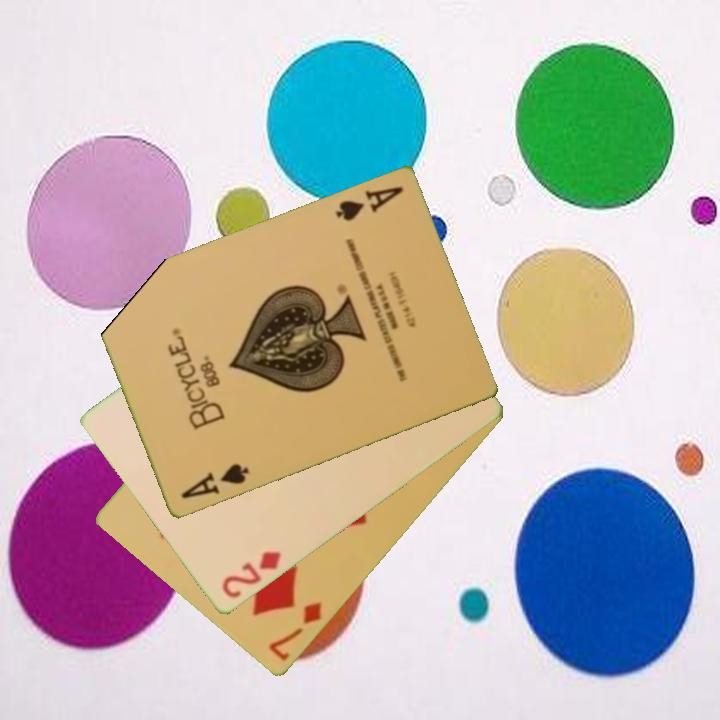2d: (218, 548, 284, 602)
7d: (265, 599, 325, 664)
As: (177, 460, 252, 503), (331, 183, 406, 225)
